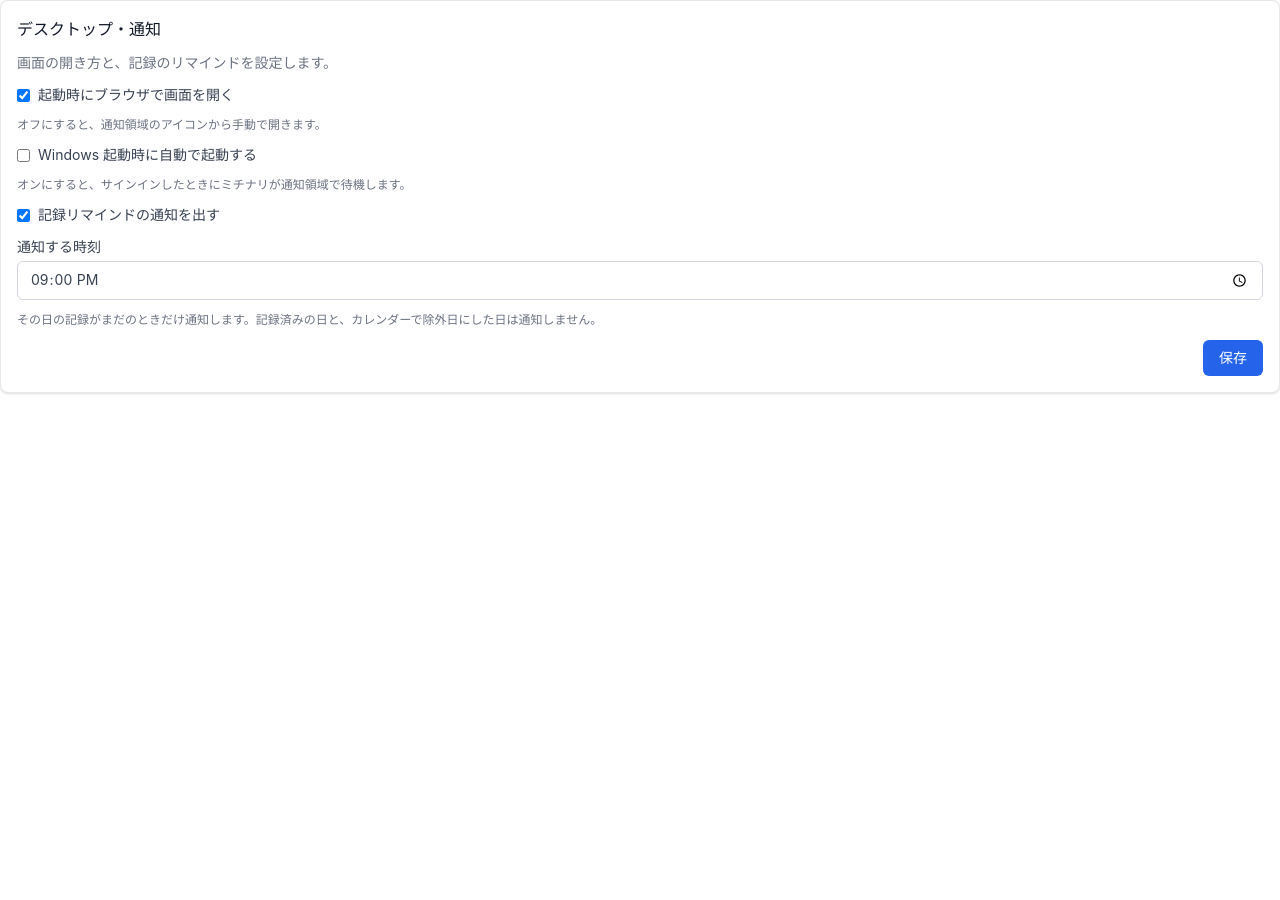
Test: DesktopSection の保存 › reports success after saving
Click the button "保存" at (1233, 358), box [1203,340,1263,376]
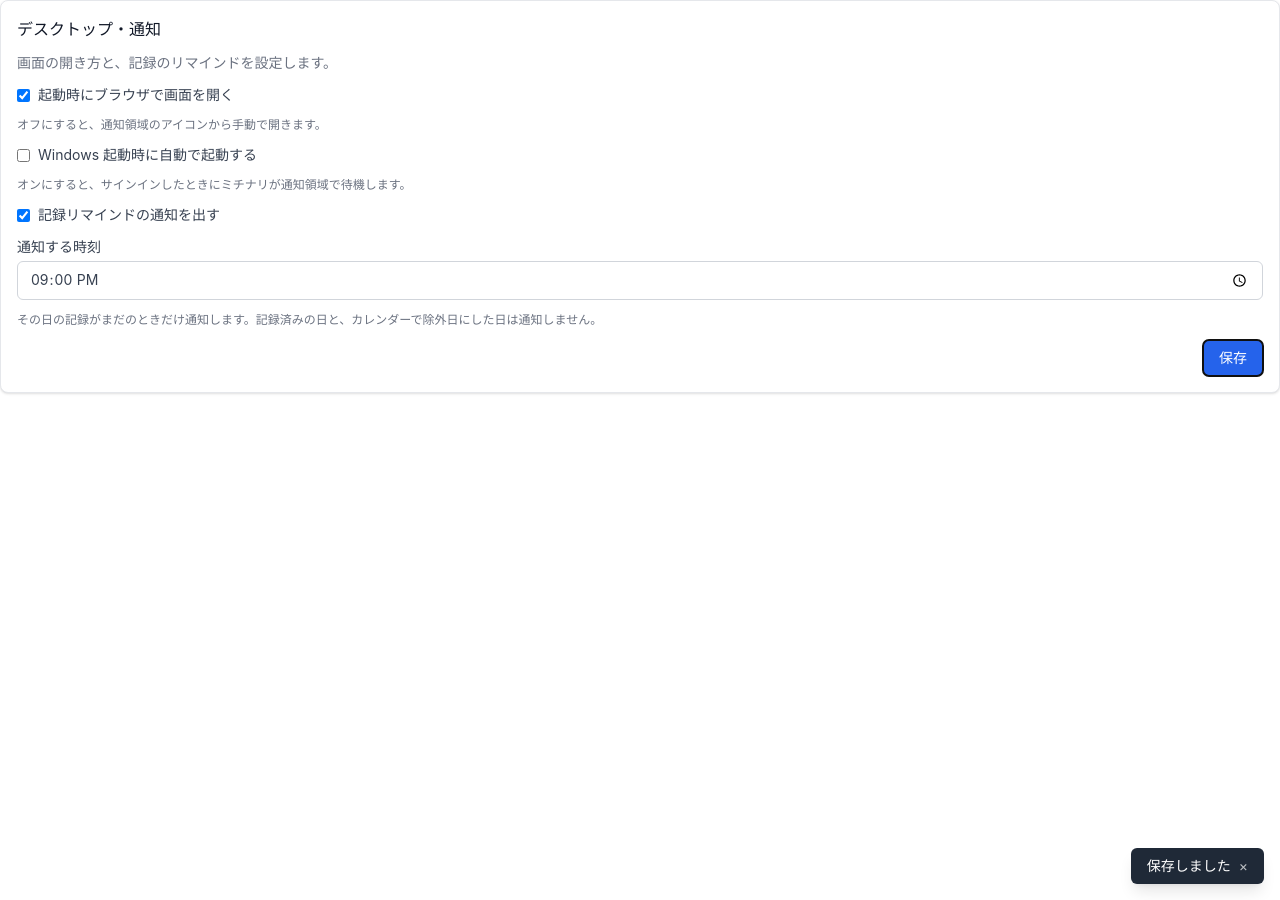
Now the text "保存しました" is shown, box [1147,856,1231,876]
